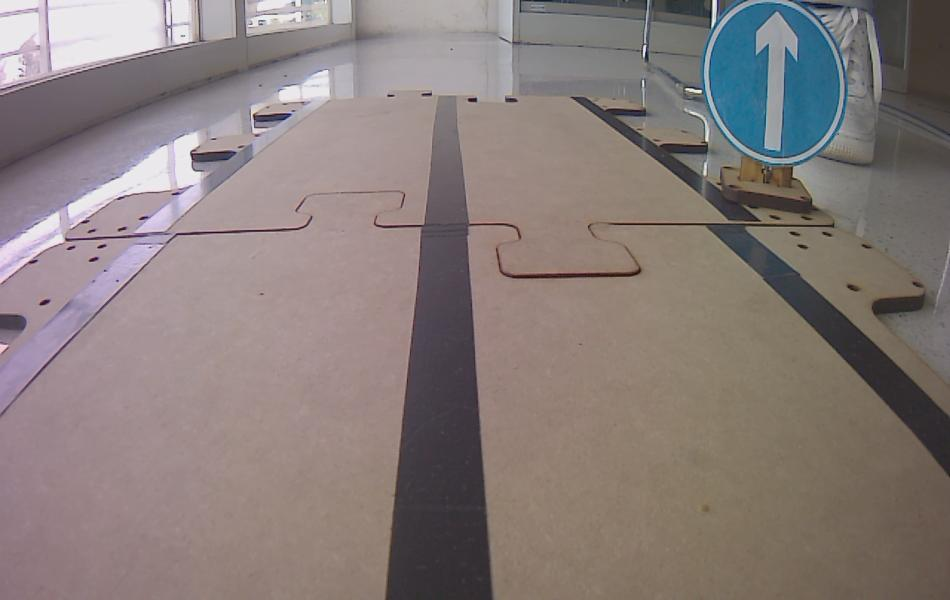straight: (702, 0, 853, 166)
